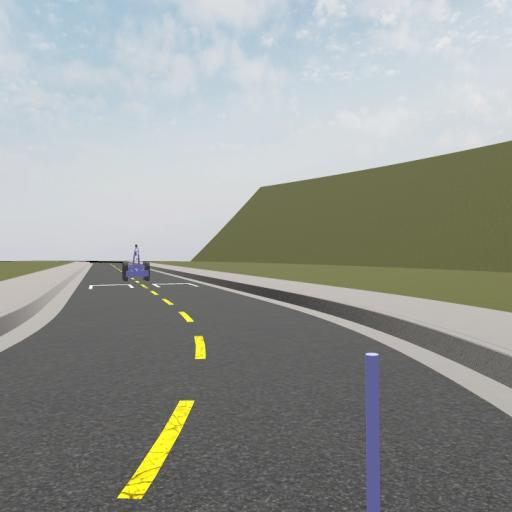ERP-42: (123, 243, 151, 283)
